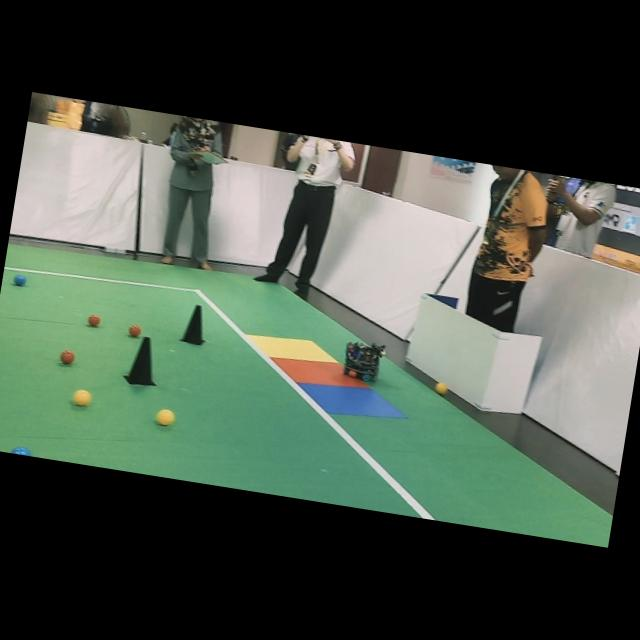ball: (156, 409, 175, 426), (73, 389, 92, 406), (60, 349, 75, 365), (128, 324, 142, 337), (11, 447, 31, 456), (435, 382, 448, 395), (88, 314, 101, 327), (14, 275, 27, 286)
goal: (300, 383, 407, 418), (272, 357, 370, 389), (247, 334, 337, 363)
